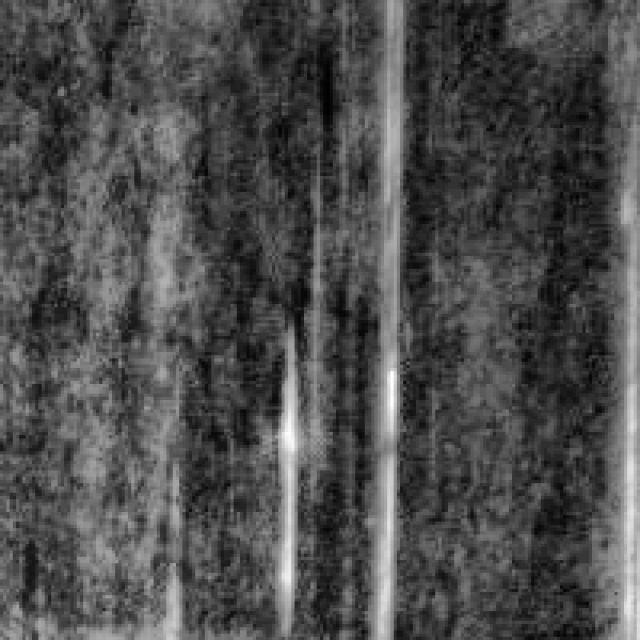Inclusion: (362, 336, 404, 634), (262, 342, 304, 630)
